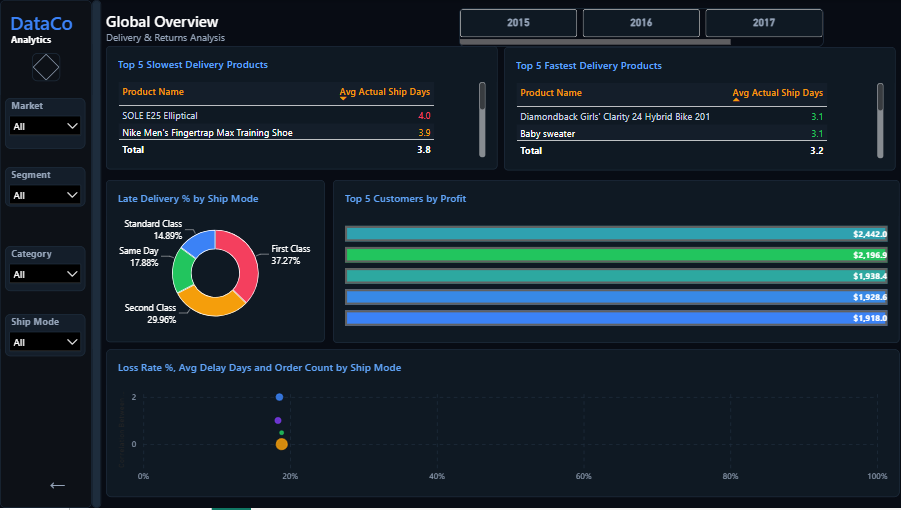

This screenshot's page, from the dashboard's own definition file:
{"tool":"powerbi","page":{"name":"Delivery & Returns","canvas":[1280,720],"ordinal":1},"visuals":[{"type":"shape","box":[0,0,130,720],"z":0},{"type":"shape","box":[130.5,0,12.5,720.4],"z":1000},{"type":"textbox","box":[14.3,14.3,116.2,48.3],"z":2000},{"type":"textbox","box":[15.7,45,99.9,21.4],"z":3000},{"type":"shape","box":[45,75,40,40],"z":4000},{"type":"slicer","fields":{"Values":["Supply Chain.Market"]},"box":[7.2,139.4,114.4,71.5],"z":5000},{"type":"slicer","fields":{"Values":["Supply Chain.Category"]},"box":[7.1,348.2,114.2,64.2],"z":6000},{"type":"slicer","fields":{"Values":["Supply Chain.Segment"]},"box":[7.1,236.9,114.2,55.7],"z":7000},{"type":"slicer","fields":{"Values":["Supply Chain.Ship Mode"]},"box":[7.1,445.2,114.2,59.9],"z":8000},{"type":"actionButton","box":[42.8,659.3,78.5,51.4],"z":9000},{"type":"textbox","box":[149.8,15.7,162.7,30],"z":10000},{"type":"textbox","box":[150.4,42.7,263.2,18.8],"z":11000},{"type":"advancedSlicerVisual","fields":{"Values":["DateTable.Year"]},"box":[650.7,10.7,516.6,55.4],"z":12000},{"type":"clusteredBarChart","title":"Top 5 Customers by Profit","fields":{"Category":["Supply Chain.Customer ID"],"Y":["Supply Chain.Total Profit"]},"box":[472,255.6,802.7,230.6],"z":13000},{"type":"donutChart","title":"Late Delivery % by Ship Mode","fields":{"Category":["Supply Chain.Ship Mode"],"Y":["Supply Chain.Late Delivery %"]},"box":[150,255,310,230],"z":14000},{"type":"tableEx","title":"Top 5 Slowest Delivery Products","fields":{"Values":["Supply Chain.Product Name","Supply Chain.Avg Actual Ship Days"]},"box":[150,65,555.1,175],"z":15000},{"type":"tableEx","title":"Top 5 Fastest Delivery Products","fields":{"Values":["Supply Chain.Product Name","Supply Chain.Avg Actual Ship Days"]},"box":[714.9,67.1,555.1,175],"z":16000},{"type":"scatterChart","fields":{"Series":["Supply Chain.Ship Mode"],"Size":["Supply Chain.Order Count"],"X":["Supply Chain.Loss Rate %"],"Y":["Supply Chain.Avg Delay Days"]},"box":[150,495,1125,210],"z":17000}]}

Visuals, with their boxes on the page's 1280x720 design canvas (x1, y1, x2, y2). These are canvas units, not pixel positions in the 901x510 screenshot, which may show the page scaled, cropped or inside an application window:
shape: box(0, 0, 130, 720)
shape: box(130, 0, 143, 720)
textbox: box(14, 14, 130, 63)
textbox: box(16, 45, 116, 66)
shape: box(45, 75, 85, 115)
slicer - Supply Chain.Market: box(7, 139, 122, 211)
slicer - Supply Chain.Category: box(7, 348, 121, 412)
slicer - Supply Chain.Segment: box(7, 237, 121, 293)
slicer - Supply Chain.Ship Mode: box(7, 445, 121, 505)
actionButton: box(43, 659, 121, 711)
textbox: box(150, 16, 312, 46)
textbox: box(150, 43, 414, 62)
advancedSlicerVisual - DateTable.Year: box(651, 11, 1167, 66)
"Top 5 Customers by Profit" clusteredBarChart: box(472, 256, 1275, 486)
"Late Delivery % by Ship Mode" donutChart: box(150, 255, 460, 485)
"Top 5 Slowest Delivery Products" tableEx: box(150, 65, 705, 240)
"Top 5 Fastest Delivery Products" tableEx: box(715, 67, 1270, 242)
scatterChart - Supply Chain.Ship Mode x Supply Chain.Order Count: box(150, 495, 1275, 705)
